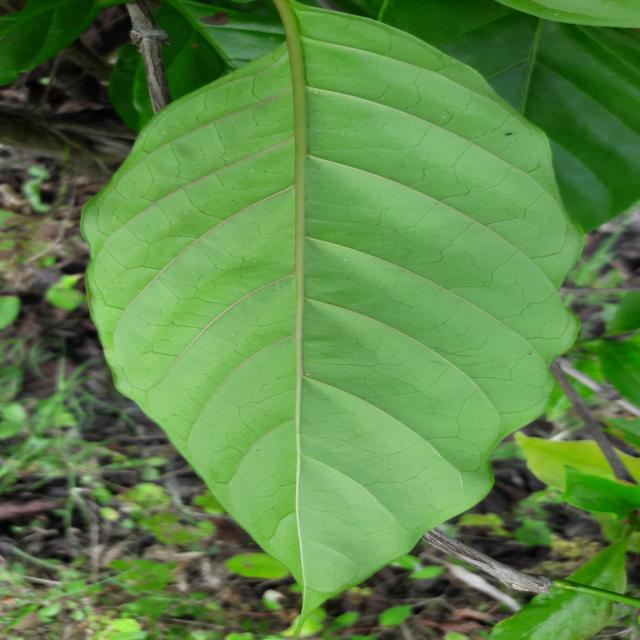Sanas: (80, 0, 617, 619)
